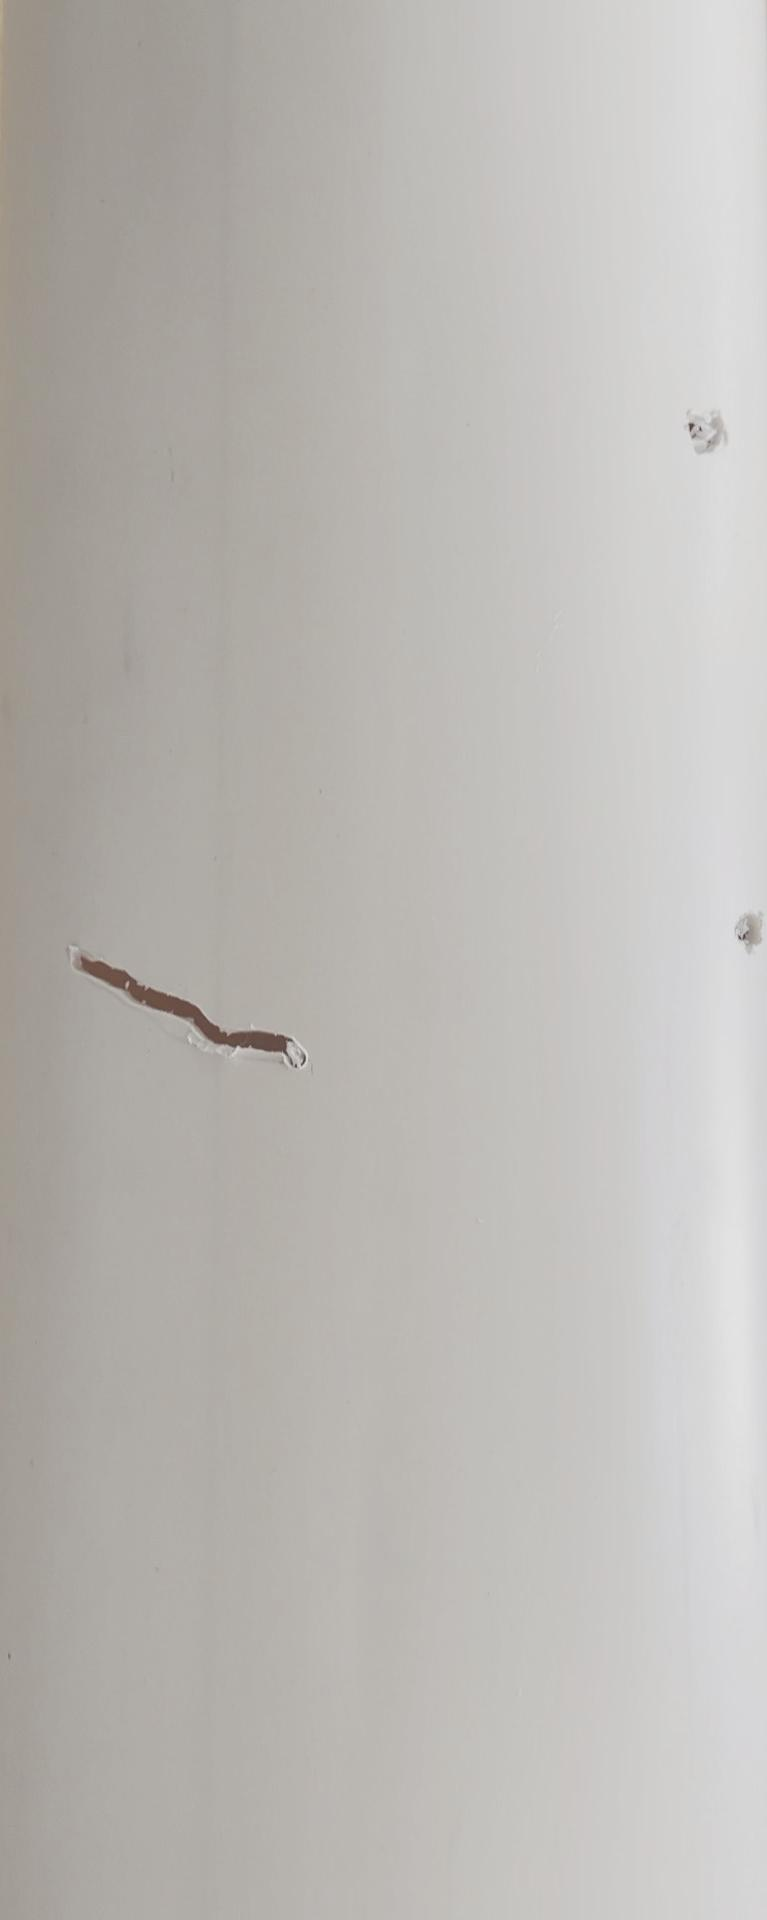fengxi: (62, 940, 328, 1076)
kongdong: (671, 396, 735, 465), (731, 895, 765, 958)
